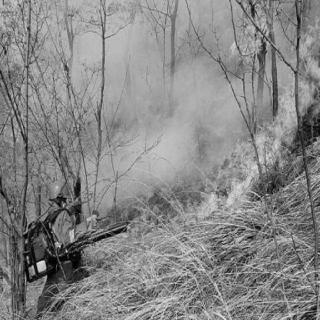Smoke: (146, 117, 186, 171)
